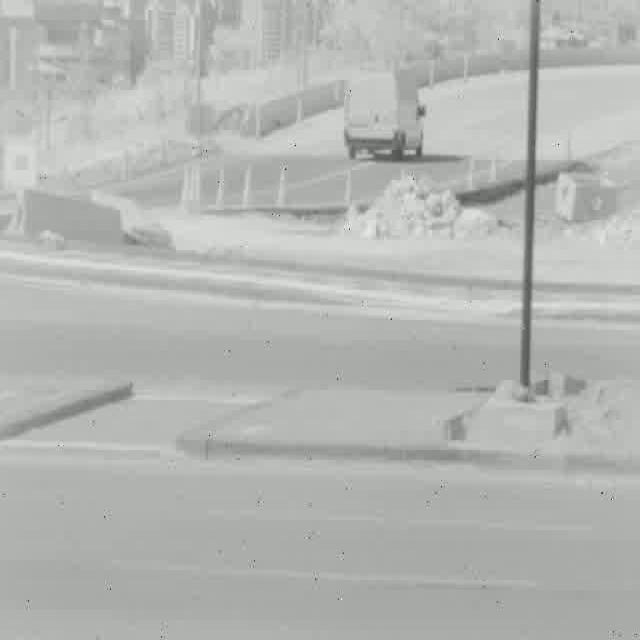Car: (344, 71, 424, 157)
